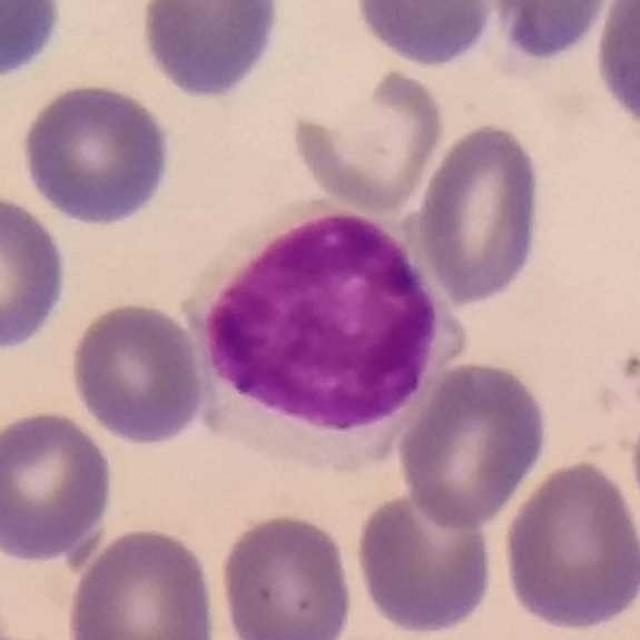Lymphocyte: (196, 199, 466, 472), (0, 1, 71, 85)
RBC: (393, 356, 553, 531), (412, 118, 550, 308), (288, 60, 449, 217), (498, 456, 640, 634), (17, 78, 176, 229), (351, 486, 498, 638), (66, 297, 208, 449), (0, 405, 119, 567), (214, 508, 358, 640), (62, 522, 223, 640), (136, 0, 286, 104), (0, 189, 72, 355), (351, 0, 498, 70), (483, 0, 622, 67), (590, 0, 640, 138), (0, 0, 70, 85)
